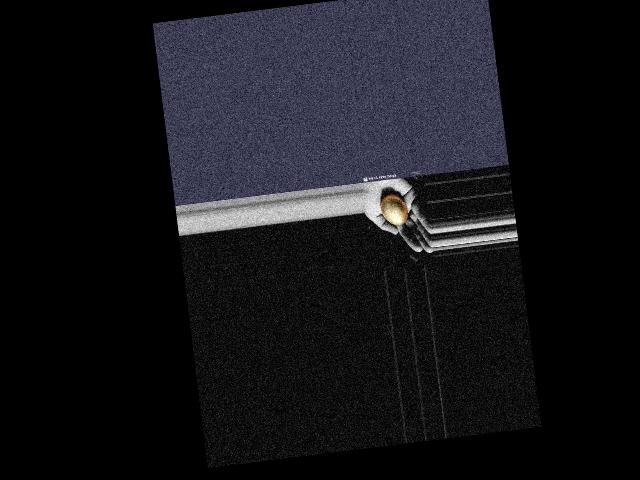egg: (380, 193, 409, 227)
